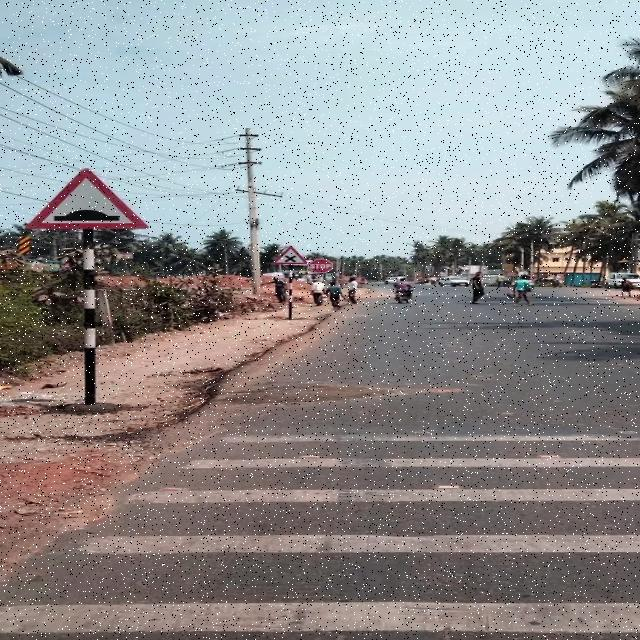Bump: (30, 168, 148, 233)
